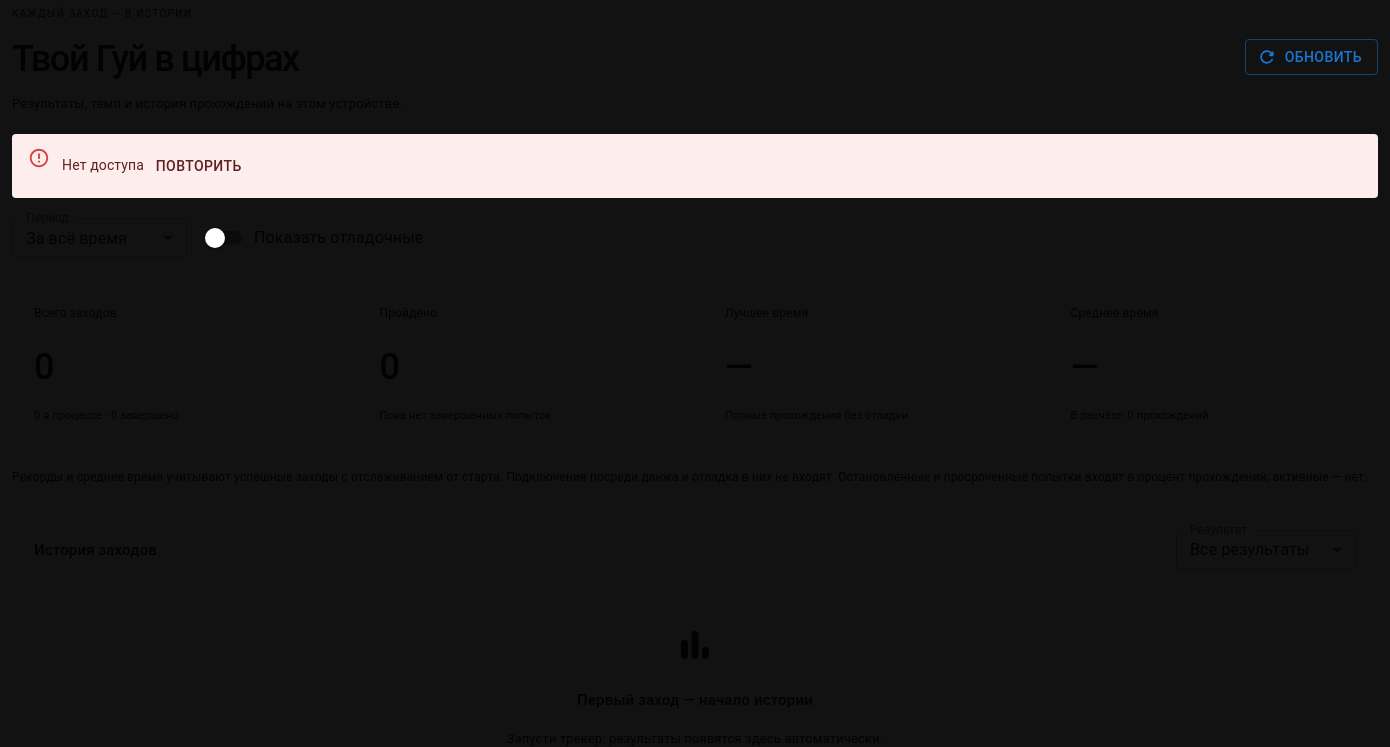
Test: экран статистики › показывает ошибку чтения и восстанавливается после повторной загрузки
Expected: the text "Нет доступа" is shown, 62,156 -> 144,172
Click the button "Повторить" at coordinates (199, 166), box 148,148 -> 250,184
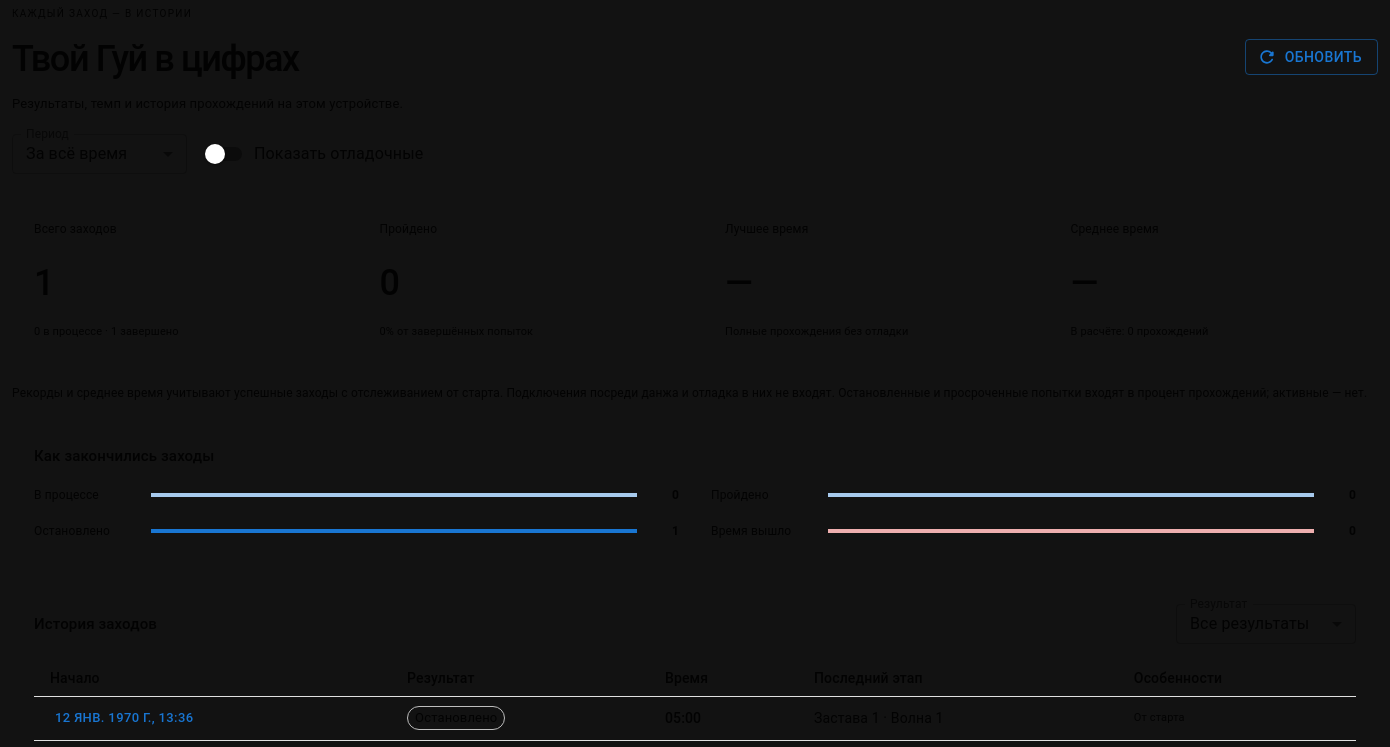
Now the button with aria-label "Подробнее о заходе" is shown, box 50,703 -> 198,734
Now the text "Нет доступа" is gone
